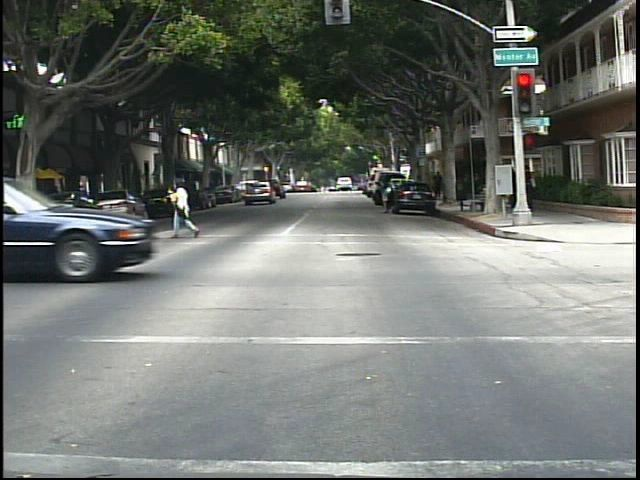person: (163, 172, 200, 240), (373, 172, 398, 216), (433, 168, 448, 199)
